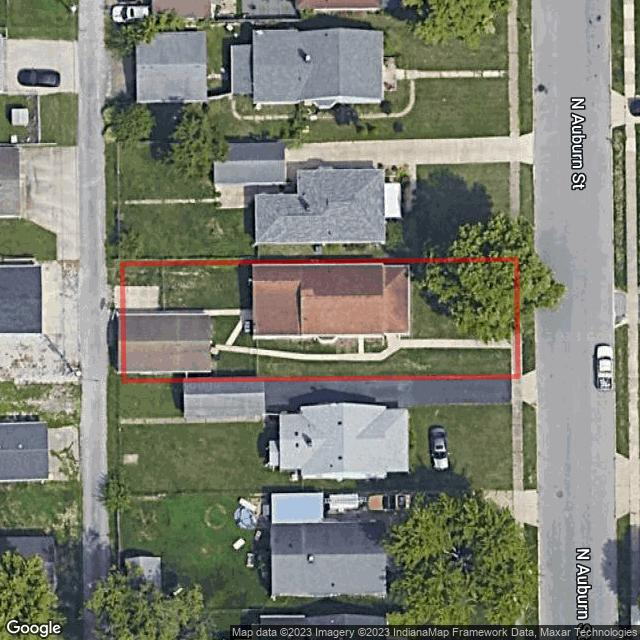Driveway: (125, 285, 160, 310)
Extra Driveway: (108, 285, 120, 309)
Extra Lawn: (109, 309, 119, 380), (107, 262, 120, 286)
House: (252, 264, 411, 339)
Other: (125, 312, 211, 372)
Sidewalk: (211, 335, 512, 362), (164, 308, 252, 344), (511, 334, 516, 374)
